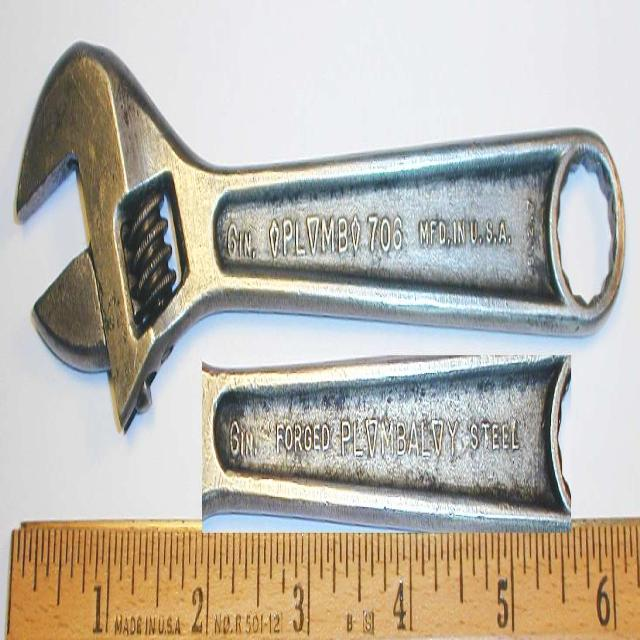wrench: (10, 0, 627, 416)
